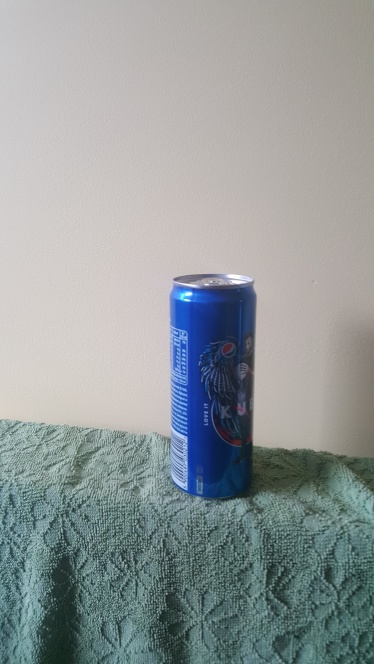pepsi: (163, 265, 263, 508)
